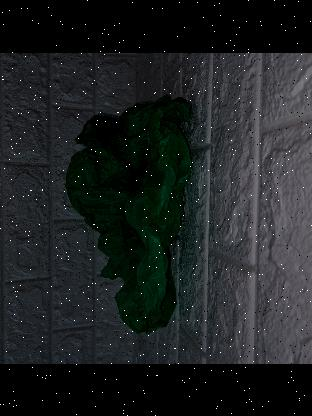Others: (64, 94, 196, 336)
